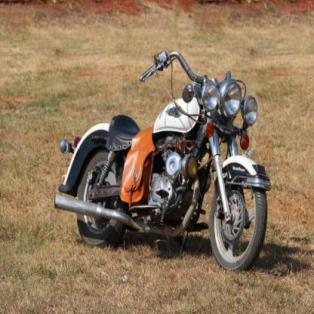Motocicleta: (48, 47, 280, 267)
